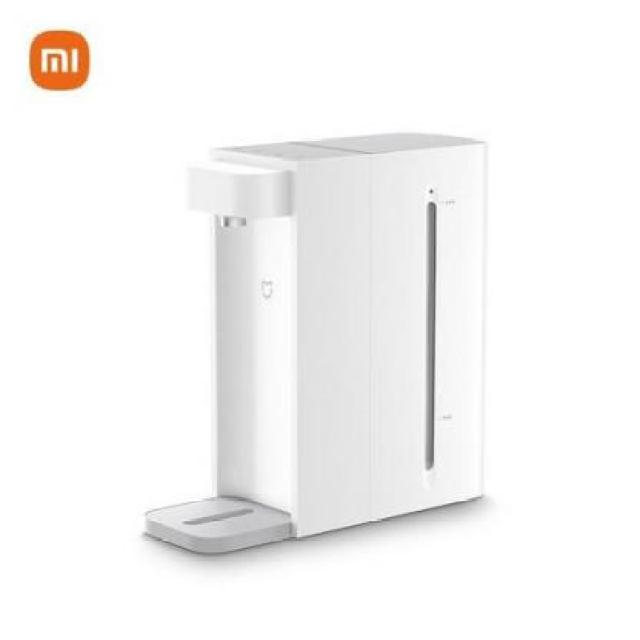cooler: (140, 131, 492, 563)
